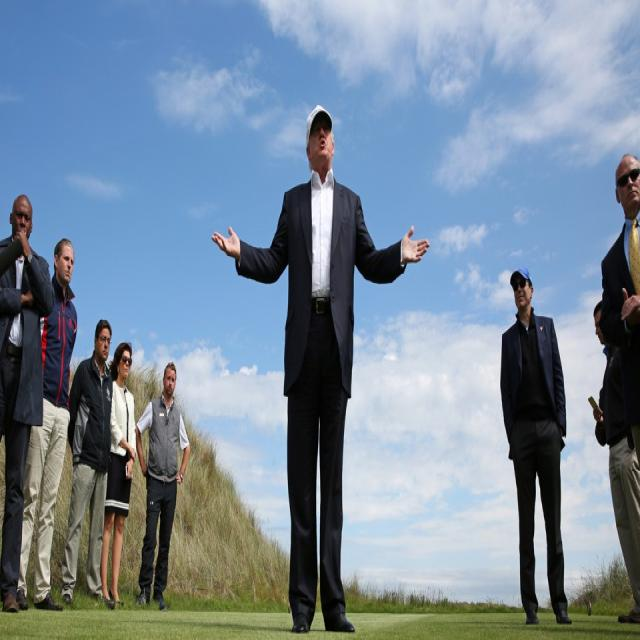body: (209, 99, 433, 638), (497, 262, 574, 630), (15, 235, 78, 612), (0, 189, 55, 616), (586, 298, 639, 626), (59, 317, 114, 607), (134, 358, 192, 614), (600, 151, 640, 444), (99, 340, 137, 610)
